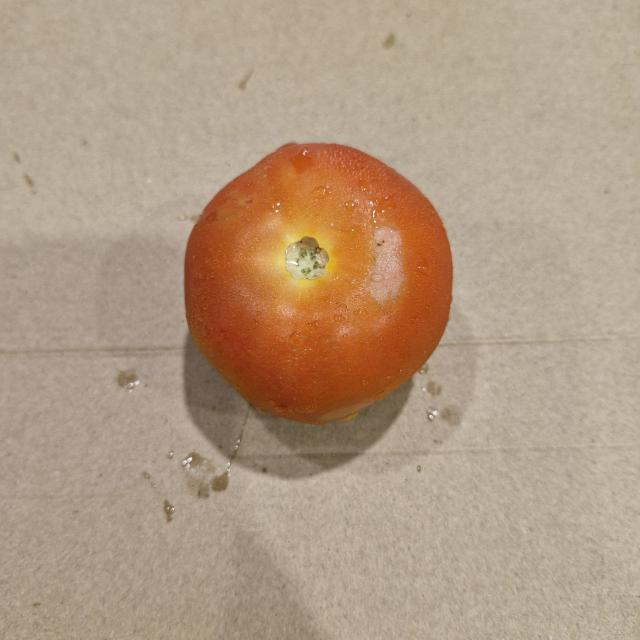food_waste: (174, 130, 460, 430)
